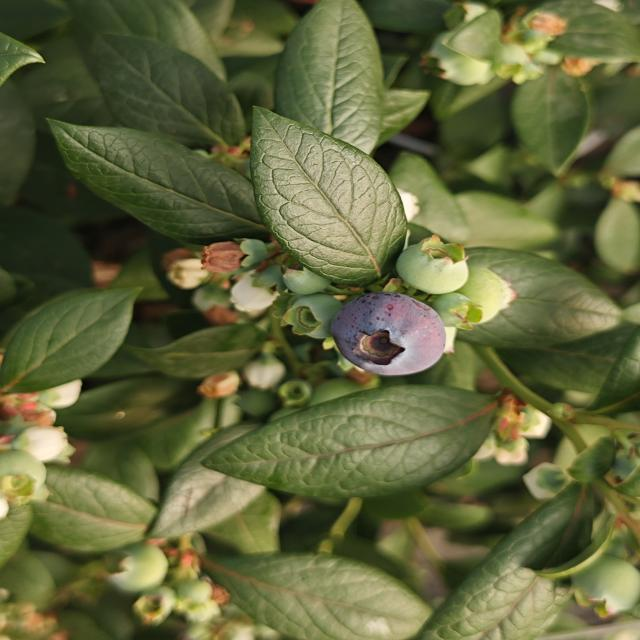ripe: (328, 290, 448, 378)
